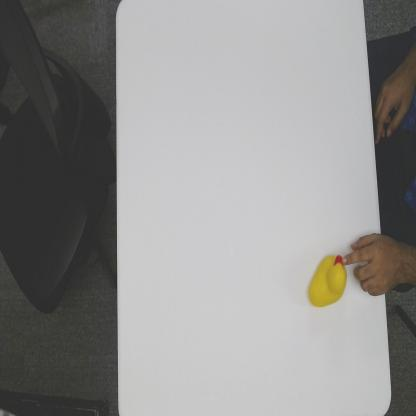Duck: (305, 251, 348, 309)
Hand: (344, 232, 401, 299)
